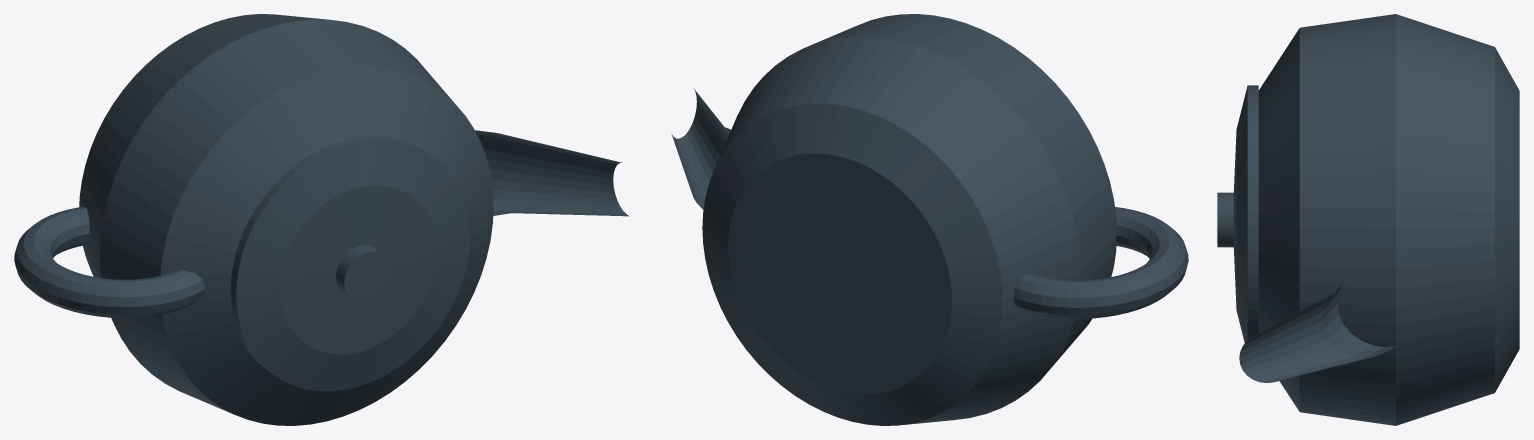
File: counter_teapot_brew.glb
3 renders of one model, left to right at view 1: azimuth 30°, elevation 25°; view 2: azimuth 150°, elevation 25°; view 3: azimuth 270°, elevation 25°, orthographic.
Visible parts, largest first — view 1: world; view 2: world; view 3: world.
Part boxes in pixels (x1,y1,x2,y2): world: (14, 14, 629, 425); world: (671, 14, 1188, 425); world: (1217, 14, 1519, 425).
Size of the model in its own units: 0.228 by 0.15 by 0.11.
1 material, 1 textured.
